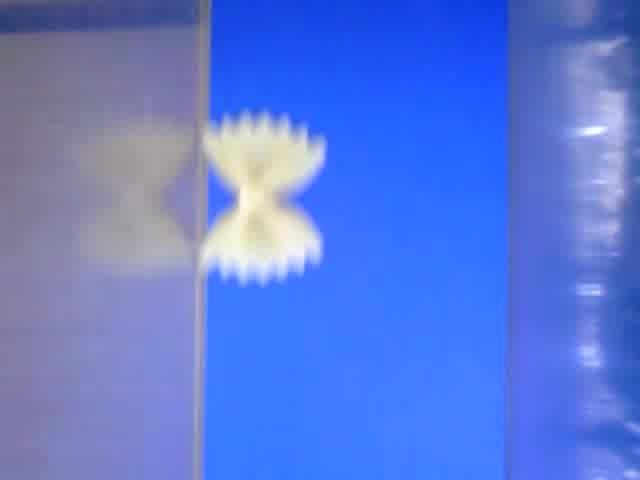farfalle: (197, 113, 330, 287)
